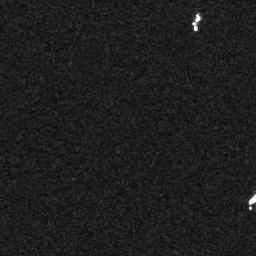ship: (191, 13, 201, 31)
